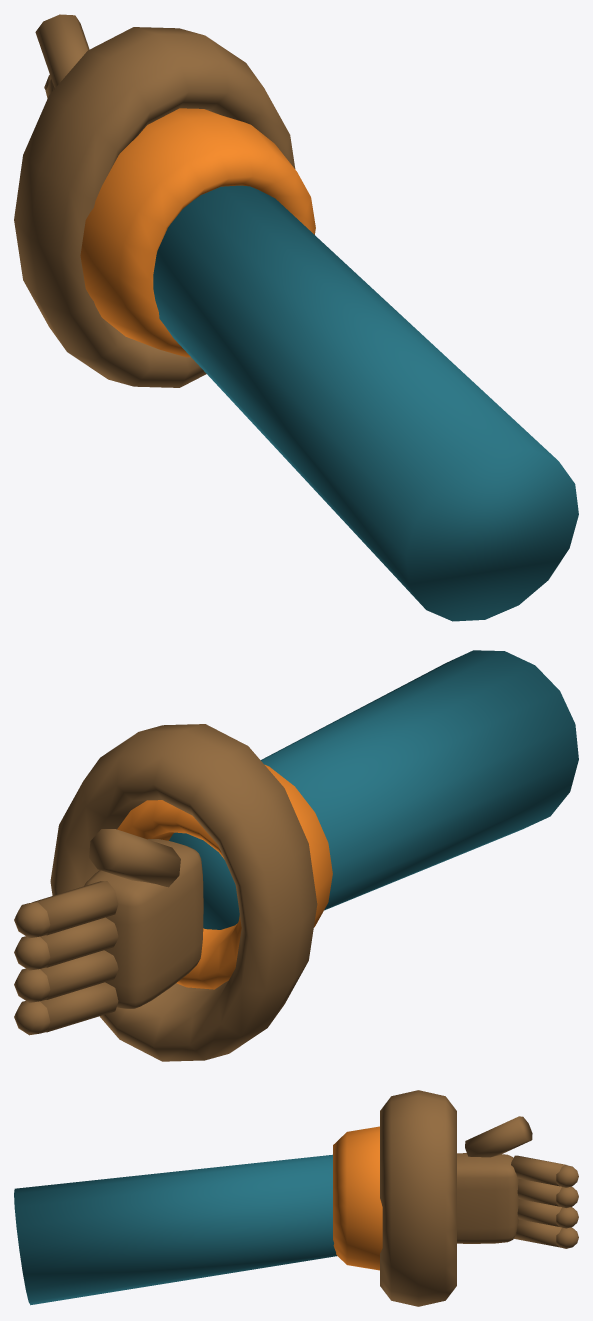
The model's file is fp_arm.glb.
The picture shows the model from 3 angles, top to bottom: view 1: azimuth 30°, elevation 25°; view 2: azimuth 150°, elevation 25°; view 3: azimuth 270°, elevation 25°; orthographic projection. The views are drawn at different scales.
Parts seen in each view (by area): view 1: FPArm; view 2: FPArm; view 3: FPArm.
Part boxes in pixels (x1,y1,x2,y2): FPArm: [14, 14, 578, 621]; FPArm: [14, 650, 578, 1061]; FPArm: [14, 1090, 578, 1306].
Size of the model in its own units: 0.1612 by 0.2108 by 0.528.
